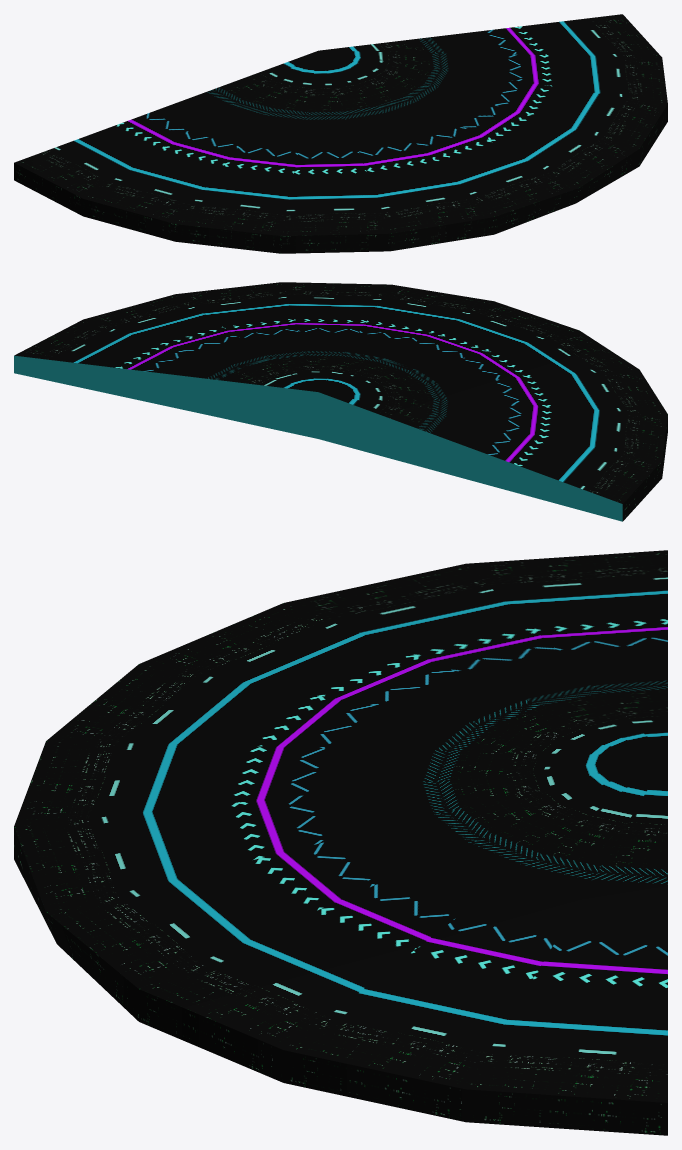
File: Floor_Platform_Art.fbx
The picture shows the model from 3 angles, top to bottom: view 1: azimuth 30°, elevation 25°; view 2: azimuth 150°, elevation 25°; view 3: azimuth 270°, elevation 25°; orthographic projection. The views are drawn at different scales.
Visible parts, largest first — view 1: Floor_Platform; view 2: Floor_Platform; view 3: Floor_Platform.
Boxes of the visible parts, x1=… form: Floor_Platform: x1=14, y1=14, x2=667, y2=253; Floor_Platform: x1=14, y1=282, x2=667, y2=521; Floor_Platform: x1=14, y1=550, x2=667, y2=1135.
Bounding box in the file's own units: 6.46 × 0.5614 × 3.23.
